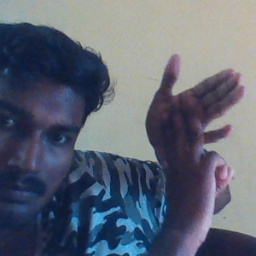M: (139, 50, 246, 191)
